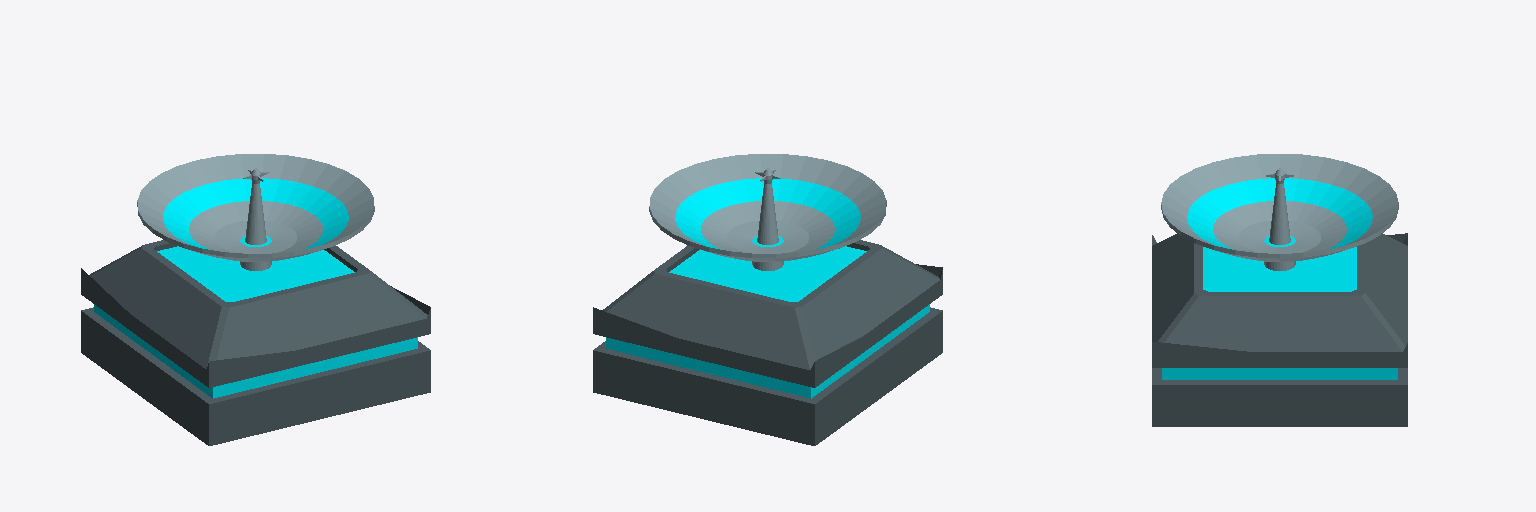
3 renders of one model, left to right at view 1: azimuth 30°, elevation 25°; view 2: azimuth 150°, elevation 25°; view 3: azimuth 270°, elevation 25°, orthographic.
Parts seen in each view (by area): view 1: Cube; view 2: Cube; view 3: Cube.
Part boxes in pixels (x1,y1,x2,y2): Cube: (81, 154, 430, 445); Cube: (593, 154, 942, 445); Cube: (1152, 154, 1407, 426).
Size of the model in its own units: 1 by 1 by 1.
1 materials, 1 textured.